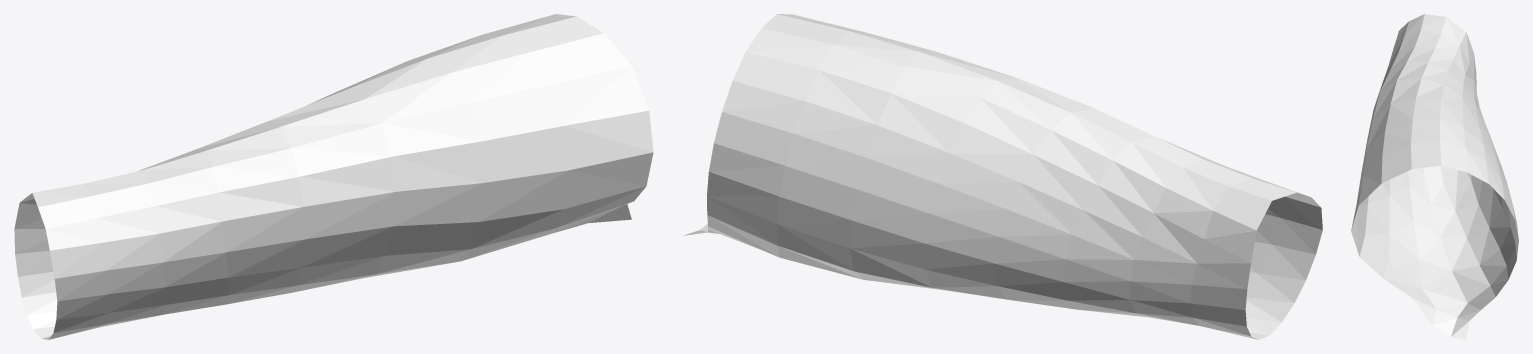
File: l_forearm.dae
The picture shows the model from 3 angles, left to right: view 1: azimuth 30°, elevation 25°; view 2: azimuth 150°, elevation 25°; view 3: azimuth 270°, elevation 25°; orthographic projection. The views are drawn at different scales.
Parts seen in each view (by area): view 1: node; view 2: node; view 3: node.
Part boxes in pixels (x1=…): node: x1=14, y1=14, x2=653, y2=339; node: x1=683, y1=14, x2=1322, y2=339; node: x1=1351, y1=14, x2=1518, y2=339.
Size of the model in its own units: 0.2708 by 0.0921 by 0.092.
Materials: 1 (1 with a texture image).
